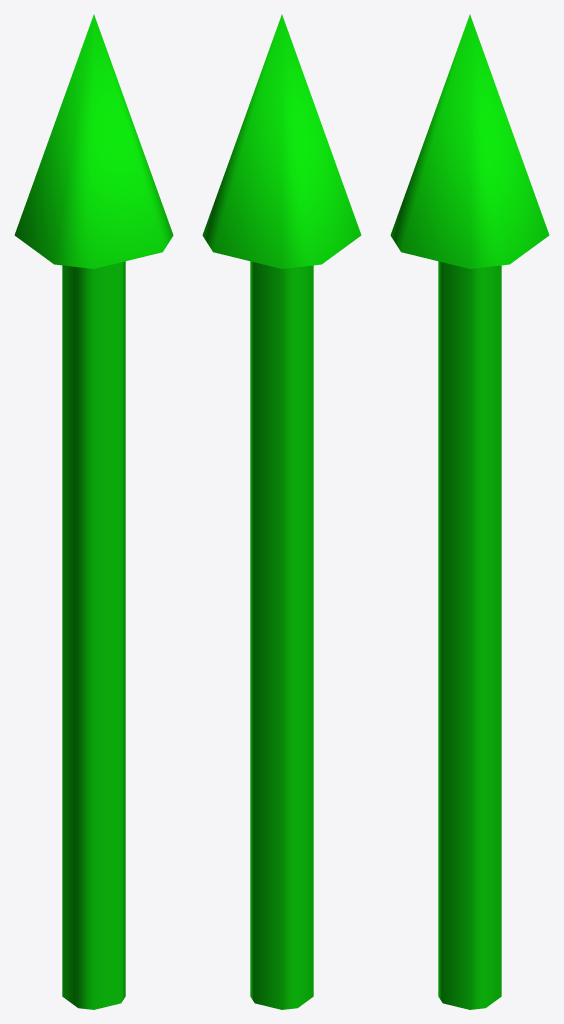
The model's file is Move_Y.fbx.
The picture shows the model from 3 angles, left to right: view 1: azimuth 30°, elevation 25°; view 2: azimuth 150°, elevation 25°; view 3: azimuth 330°, elevation 25°; orthographic projection.
Parts seen in each view (by area): view 1: Move_Y; view 2: Move_Y; view 3: Move_Y.
Part boxes in pixels (x1,y1,x2,y2): Move_Y: (14,14,173,1009); Move_Y: (202,14,361,1009); Move_Y: (390,14,549,1009).
Size of the model in its own units: 0.0689 by 0.5423 by 0.0689.
